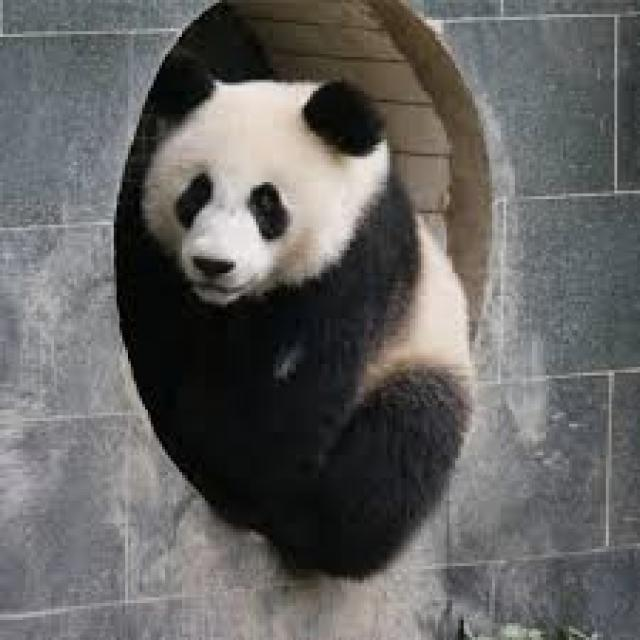panda: (114, 54, 472, 575)
